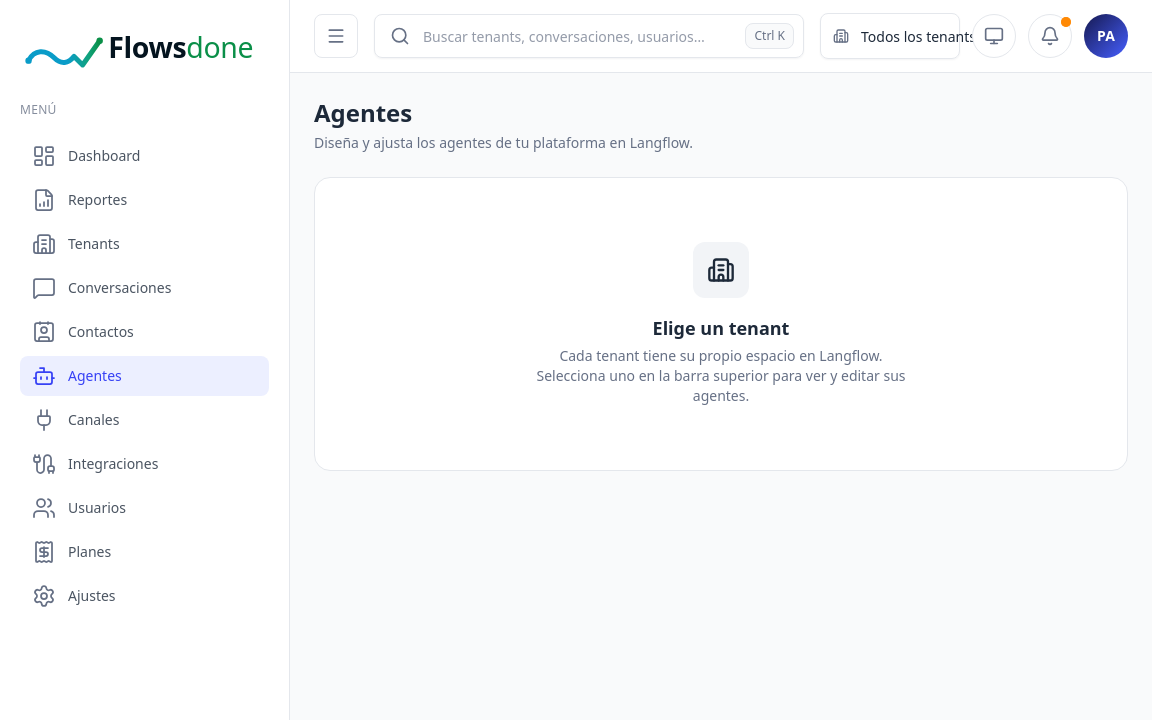
Test case: Agentes: registro y gestión › exige elegir un flujo
Select "Clínica Vital" in the dropdown named "Tenant activo" at (928, 36), box [857,14,998,58]
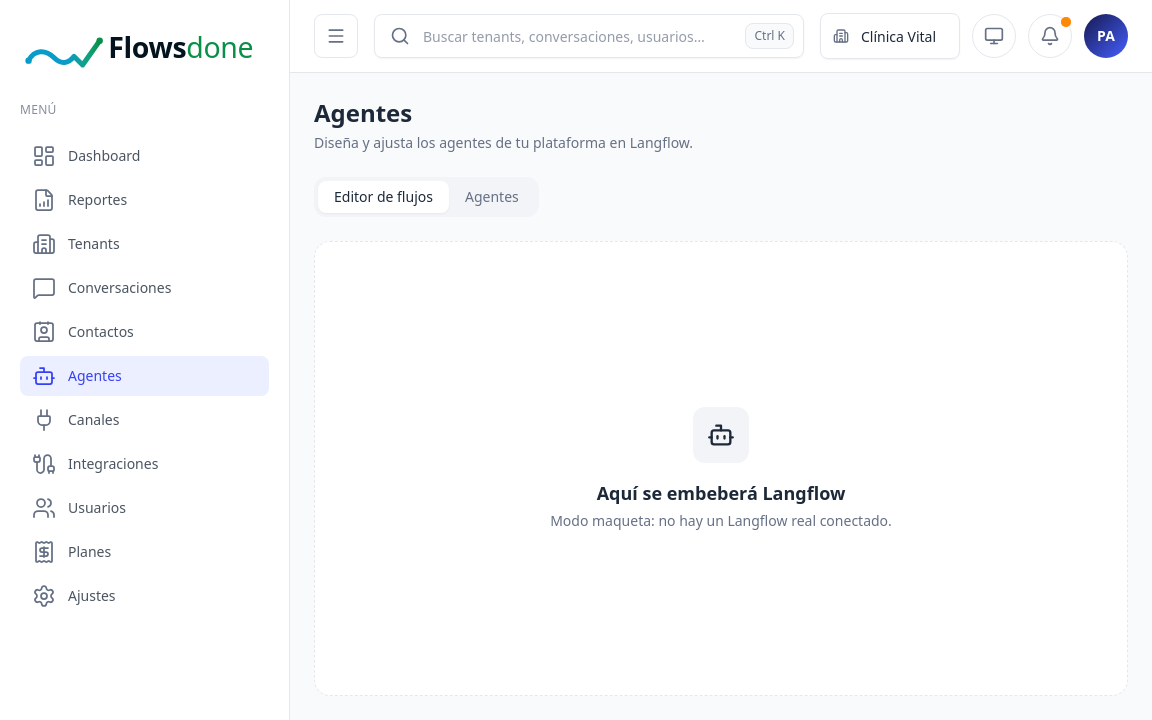
Click the tab "Agentes".
click(492, 197)  # box [449,181,535,213]
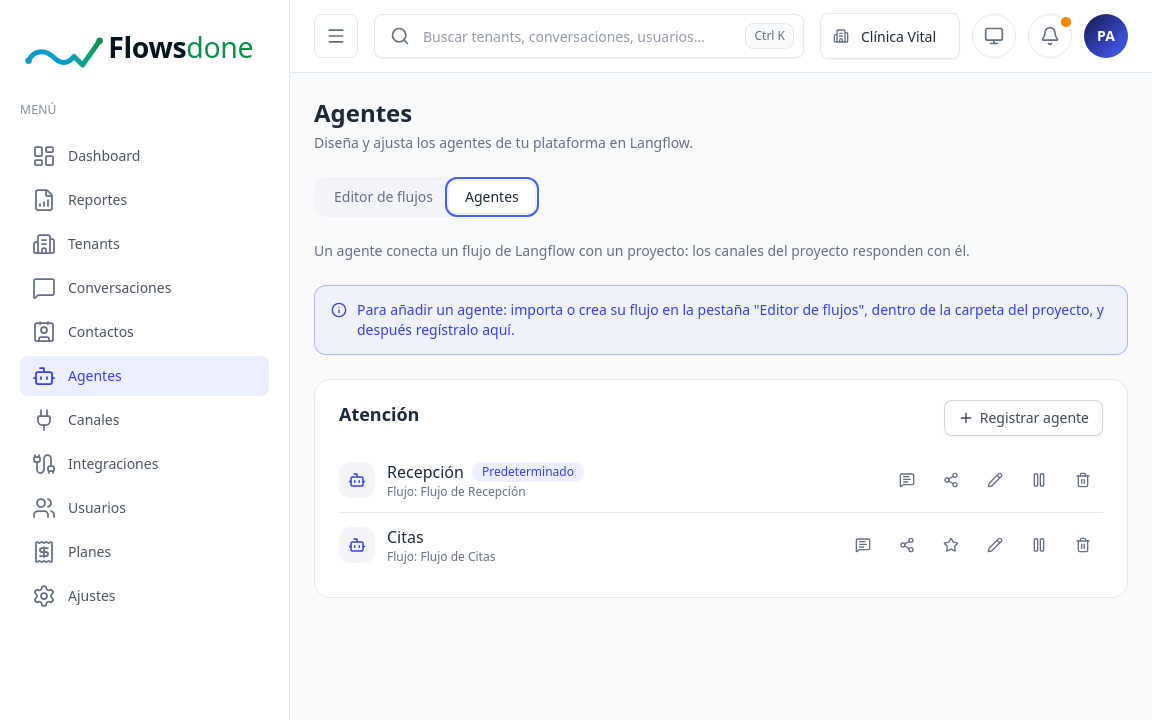
Click the button "Registrar agente".
click(1023, 418)  # box [944,400,1103,436]
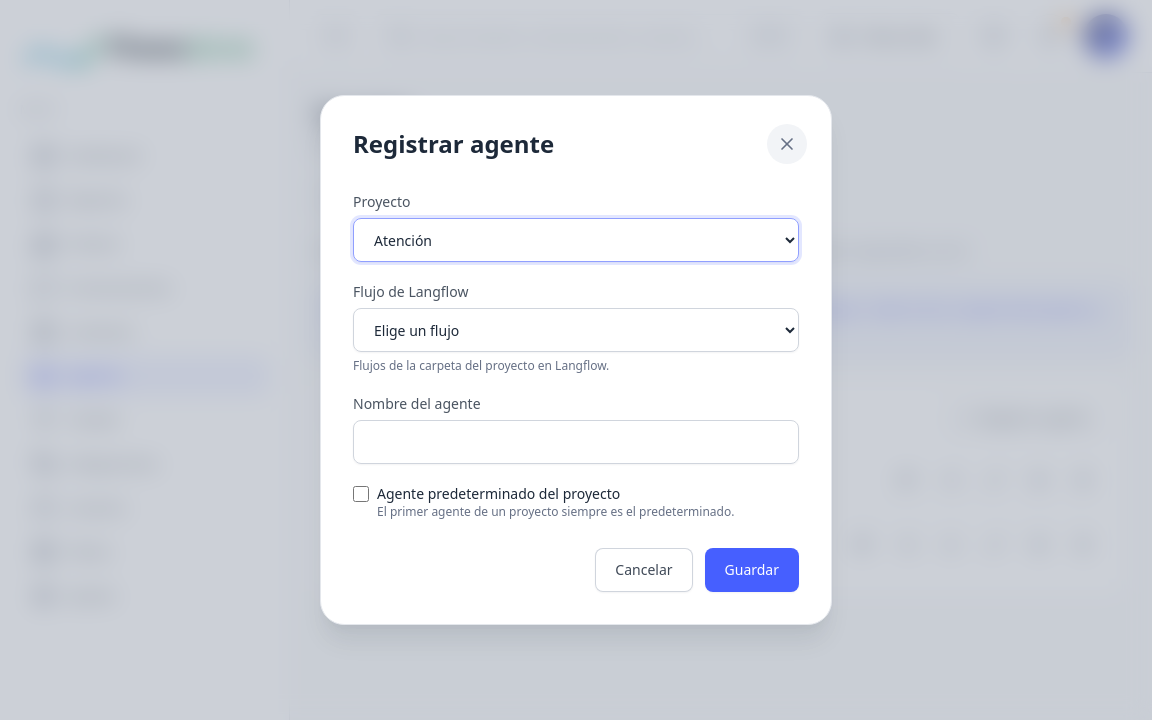
Result: the dropdown labelled "Flujo de Langflow" is shown at [353,308,799,352]
Click the button "Guardar".
click(752, 570)  # box [704,548,799,592]
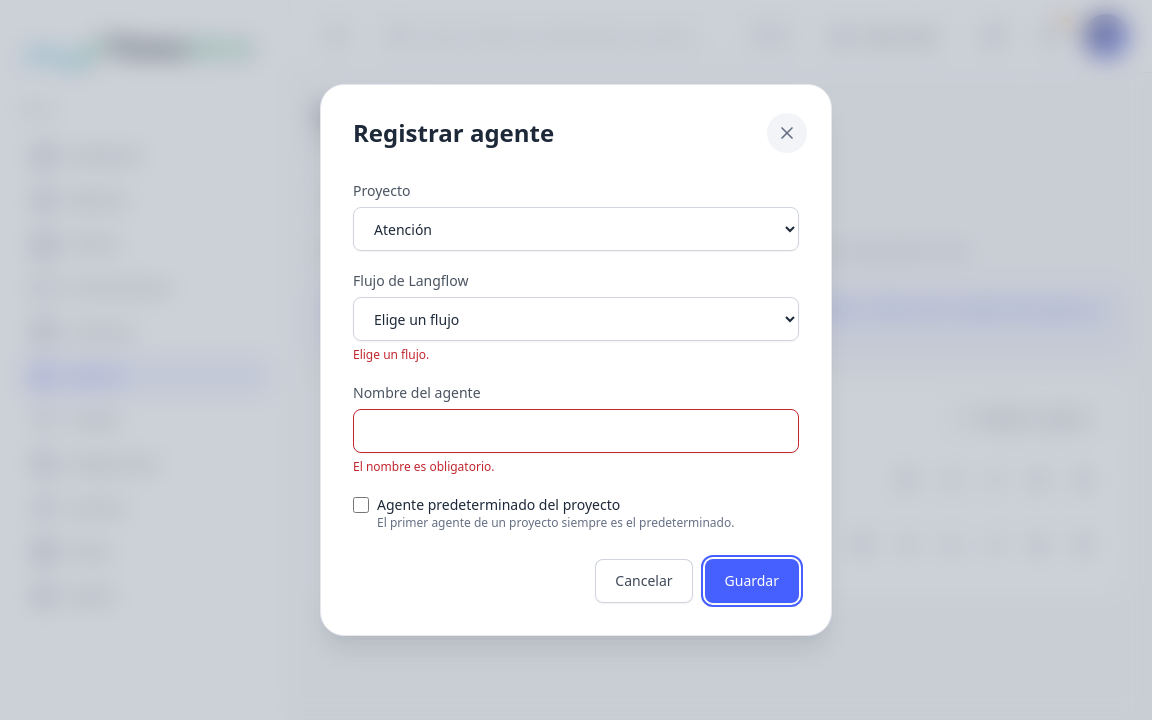
Result: the text "Elige un flujo." is shown at [353,346,429,363]
